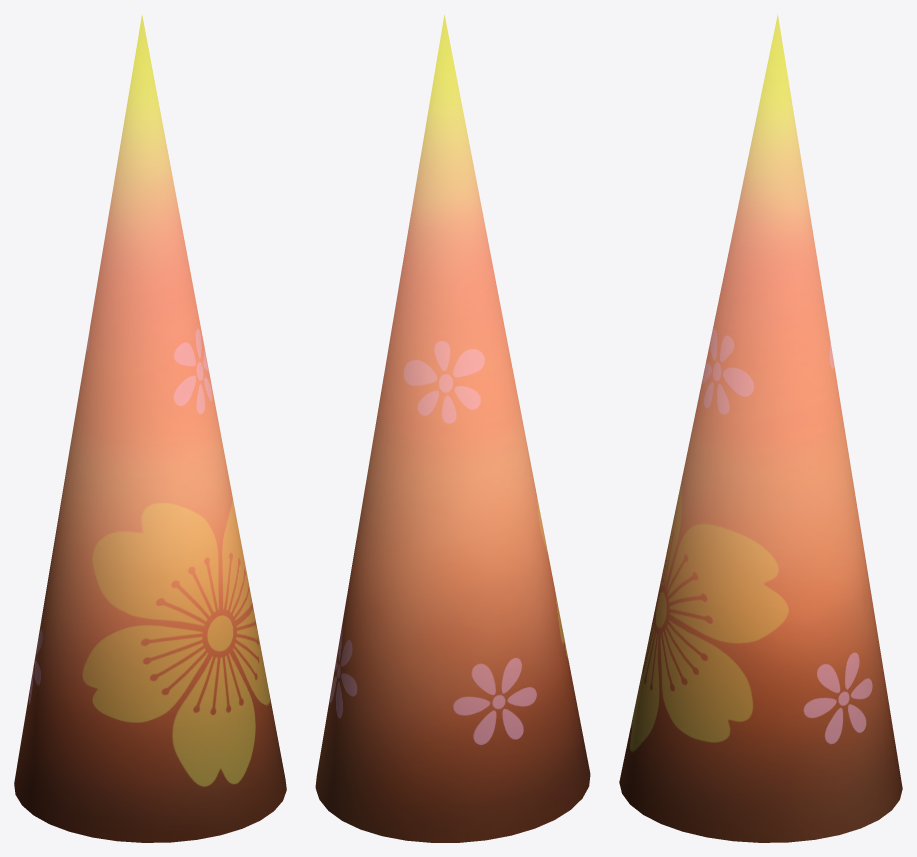
Rendered from Hat2.glb.
3 renders of one model, left to right at view 1: azimuth 30°, elevation 25°; view 2: azimuth 150°, elevation 25°; view 3: azimuth 270°, elevation 25°, orthographic.
Visible parts, largest first — view 1: Hat2; view 2: Hat2; view 3: Hat2.
Boxes of the visible parts, bbox=[...] form: Hat2: bbox=[14, 14, 286, 842]; Hat2: bbox=[315, 14, 590, 842]; Hat2: bbox=[619, 14, 902, 842].
Bounding box in the file's own units: 0.0626 × 0.197 × 0.0653.
1 material, 1 textured.
